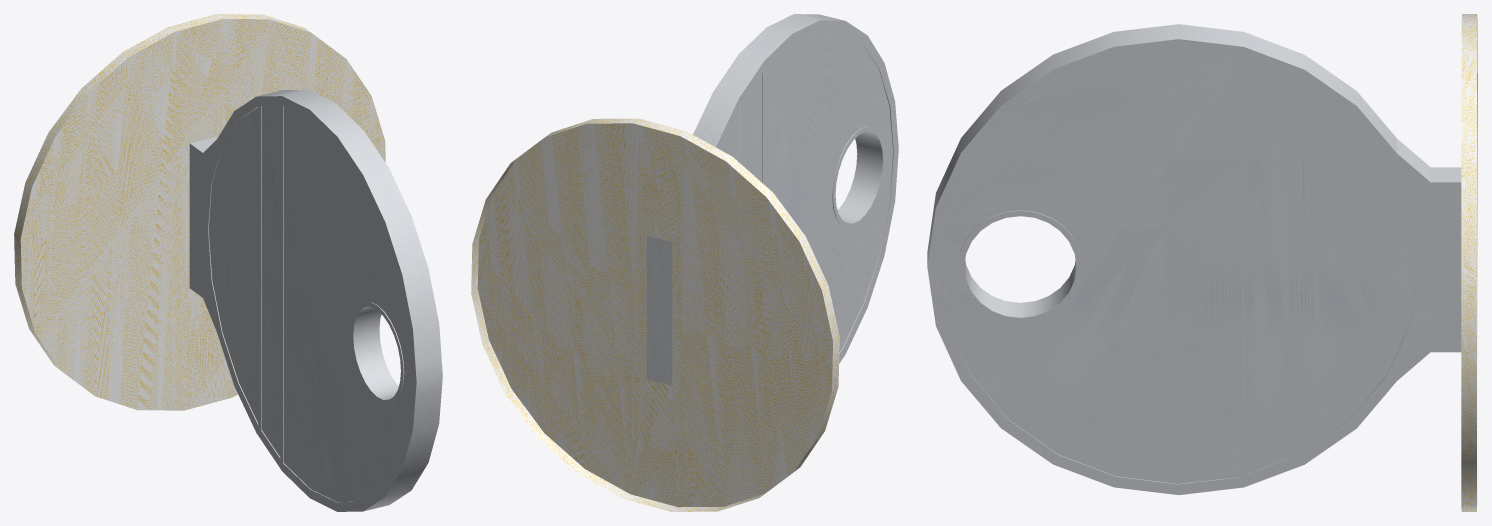
Rendered from 9961601-handle-right.dae.
The picture shows the model from 3 angles, left to right: view 1: azimuth 30°, elevation 25°; view 2: azimuth 150°, elevation 25°; view 3: azimuth 270°, elevation 25°; orthographic projection. The views are drawn at different scales.
Parts seen in each view (by area): view 1: SketchUp.911, SketchUp.880, SketchUp.889, SketchUp.878, SketchUp.876, SketchUp.885, SketchUp.886; view 2: SketchUp.911, SketchUp.880, SketchUp.889, SketchUp.888, SketchUp.885, SketchUp.876, SketchUp.886, SketchUp.878; view 3: SketchUp.881, SketchUp.889, SketchUp.882, SketchUp.875, SketchUp.911, SketchUp.884, SketchUp.885.
Part boxes in pixels (<box>): SketchUp.911: <box>14,14,385,410</box>; SketchUp.880: <box>283,106,411,502</box>; SketchUp.889: <box>189,89,442,511</box>; SketchUp.878: <box>208,107,258,424</box>; SketchUp.876: <box>261,106,280,456</box>; SketchUp.885: <box>353,307,398,399</box>; SketchUp.886: <box>350,302,404,404</box>; SketchUp.911: <box>471,118,839,511</box>; SketchUp.880: <box>765,30,893,353</box>; SketchUp.889: <box>693,14,898,363</box>; SketchUp.888: <box>646,236,672,385</box>; SketchUp.885: <box>837,131,883,223</box>; SketchUp.876: <box>743,73,762,182</box>; SketchUp.886: <box>832,126,885,228</box>; SketchUp.878: <box>720,106,740,163</box>; SketchUp.881: <box>939,50,1241,484</box>; SketchUp.889: <box>927,24,1461,494</box>; SketchUp.882: <box>1299,80,1418,454</box>; SketchUp.875: <box>1248,60,1293,473</box>; SketchUp.911: <box>1461,14,1477,511</box>; SketchUp.884: <box>958,210,1082,323</box>; SketchUp.885: <box>964,260,1076,317</box>.
Size of the model in its own units: 0.0159 by 0.0177 by 0.0162.
4 materials, 2 textured.
